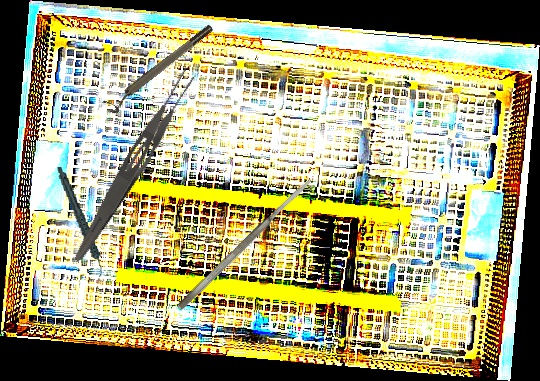Dressing Forceps: (68, 63, 202, 269)
Fixation Ring: (101, 22, 219, 117)
Handpiece: (56, 162, 105, 282)
Spatula Surgical: (175, 176, 315, 312)
